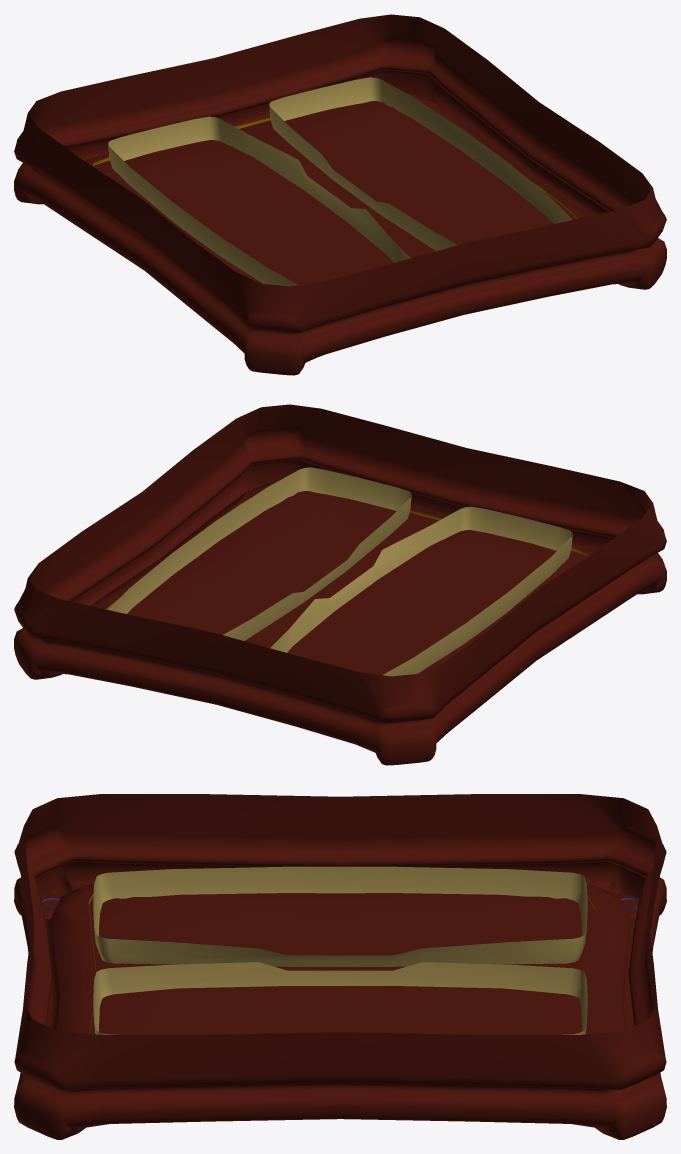
Rendered from Flower_Beds.fbx.
The picture shows the model from 3 angles, top to bottom: view 1: azimuth 30°, elevation 25°; view 2: azimuth 150°, elevation 25°; view 3: azimuth 270°, elevation 25°; orthographic projection. The views are drawn at different scales.
Visible parts, largest first — view 1: Plant_Bed2; view 2: Plant_Bed2; view 3: Plant_Bed2.
Boxes of the visible parts, x1,y1,x2,y2 form: Plant_Bed2: (14, 14, 666, 375); Plant_Bed2: (14, 404, 666, 765); Plant_Bed2: (14, 794, 666, 1139).
Bounding box in the file's own units: 415 × 80.76 × 459.
